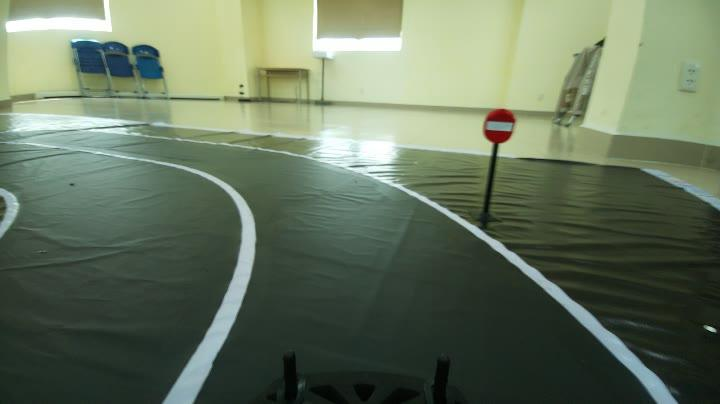no_entry: (476, 102, 524, 144)
